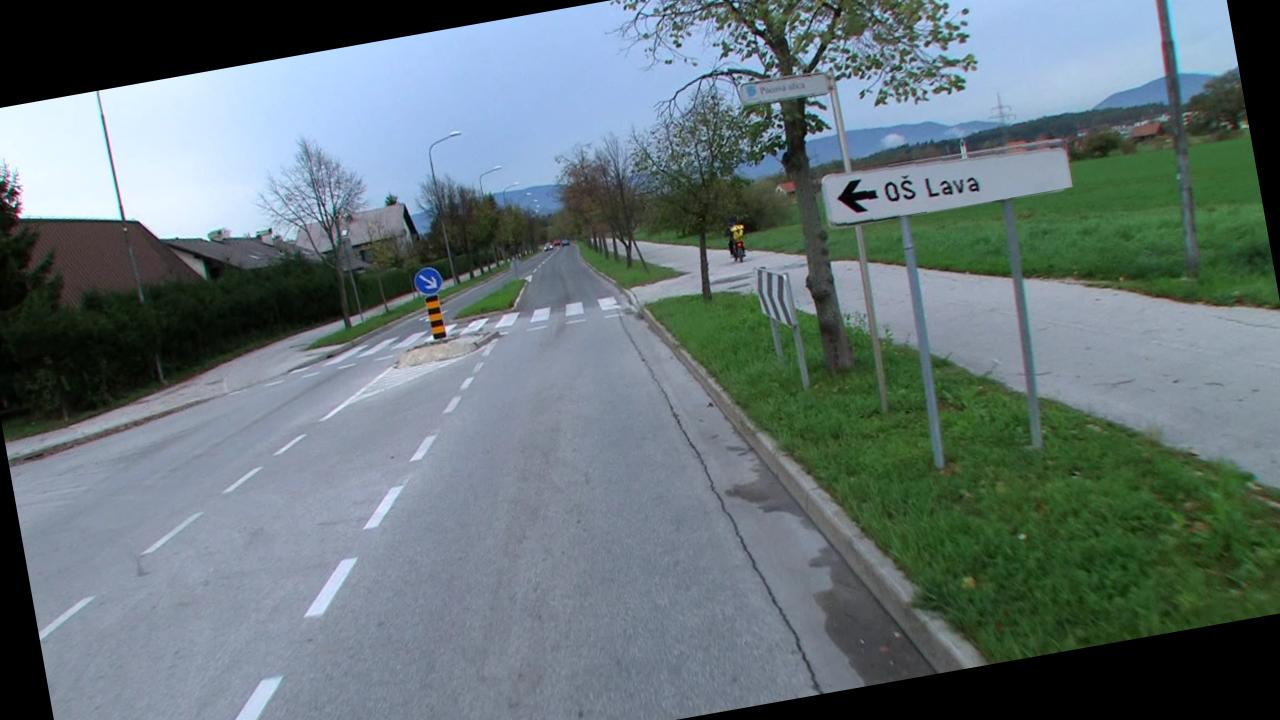Rectangle: (820, 131, 1073, 229)
Round: (412, 264, 446, 300)
